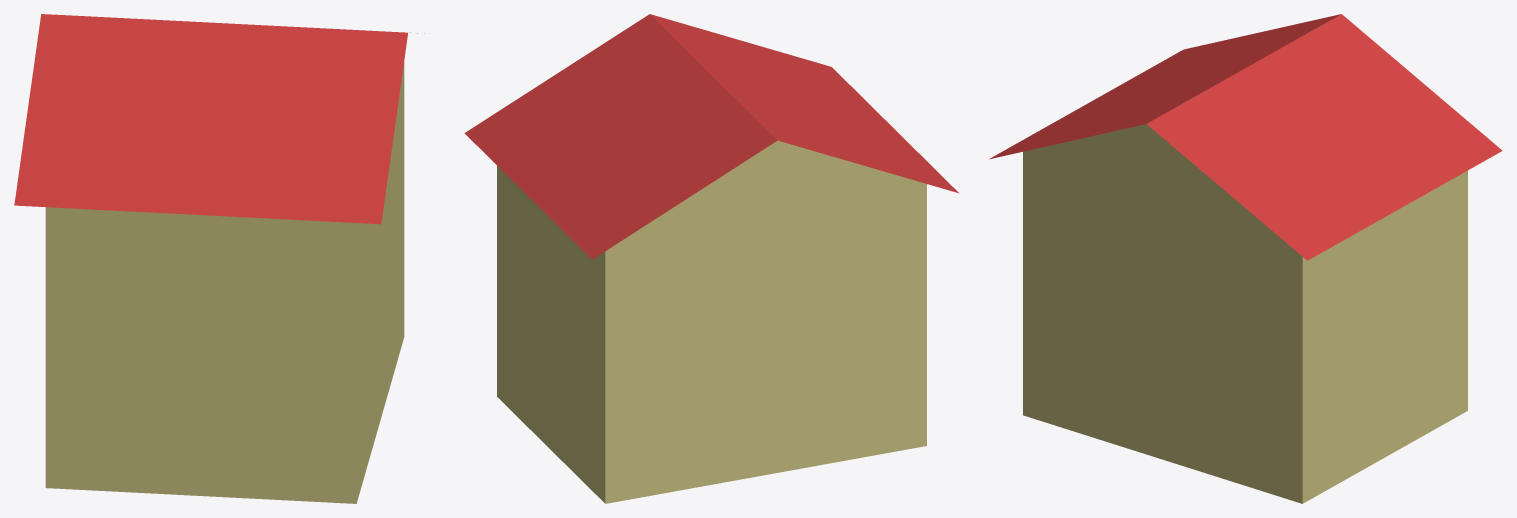
3 views of the same model, side by side, from view 1: azimuth 30°, elevation 25°; view 2: azimuth 150°, elevation 25°; view 3: azimuth 270°, elevation 25° (orthographic). The views are drawn at different scales.
Visible parts, largest first — view 1: group_5, group_3, group_4; view 2: group_5, group_3, group_4; view 3: group_5, group_3, group_4.
Boxes of the visible parts, x1,y1,x2,y2 form: group_5: (45, 62, 404, 503); group_3: (20, 14, 406, 224); group_4: (14, 14, 424, 224); group_5: (497, 140, 926, 503); group_3: (476, 14, 953, 259); group_4: (464, 14, 958, 258); group_5: (1023, 124, 1467, 503); group_3: (1024, 14, 1502, 259); group_4: (989, 14, 1501, 260).
Bounding box in the file's own units: 15.03 × 15.48 × 11.4.
